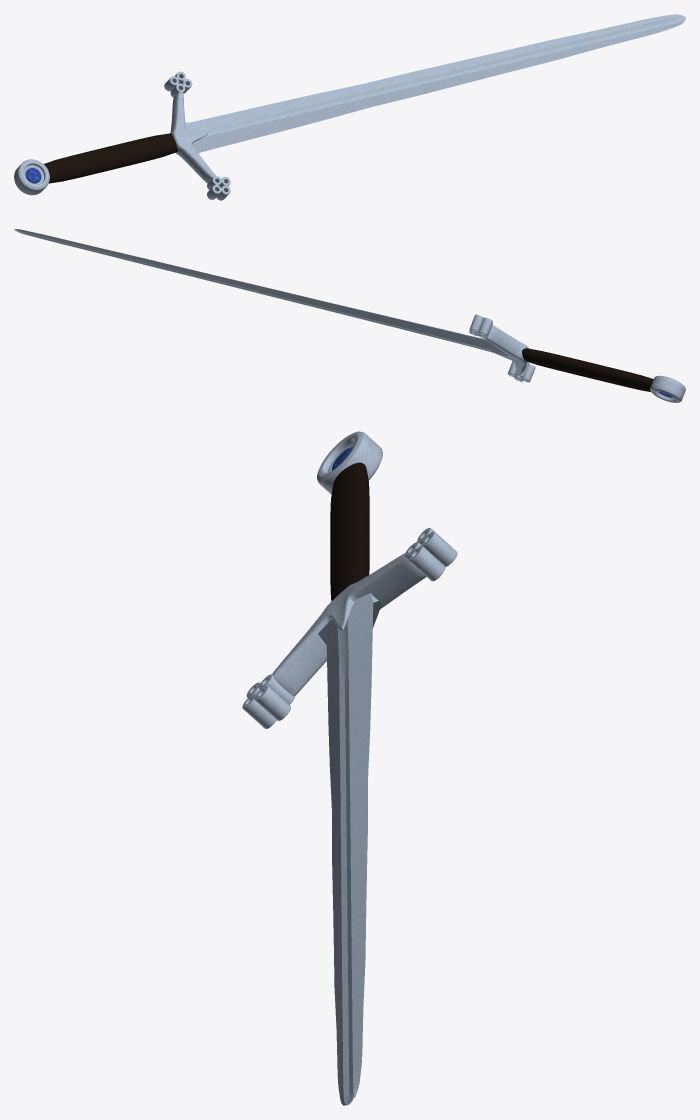
File: Claymore.fbx
3 views of the same model, one above another, from view 1: azimuth 30°, elevation 25°; view 2: azimuth 150°, elevation 25°; view 3: azimuth 270°, elevation 25° (orthographic). The views are drawn at different scales.
Parts seen in each view (by area): view 1: Claymore; view 2: Claymore; view 3: Claymore.
Part boxes in pixels (x1,y1,x2,y2): Claymore: (14, 14, 685, 200); Claymore: (14, 229, 685, 402); Claymore: (242, 431, 457, 1105).
Size of the model in its own units: 257 by 35.8 by 35.8.
